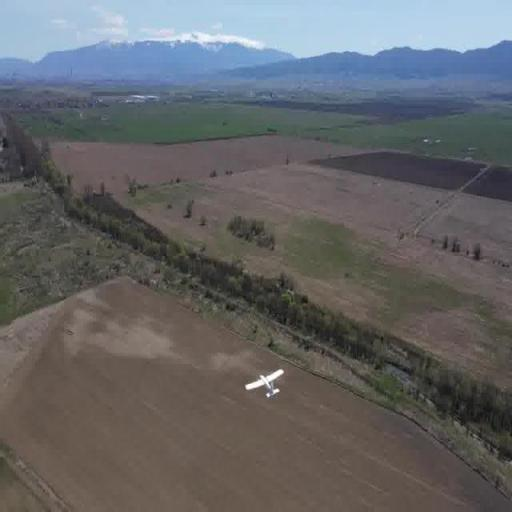uav: (244, 362, 284, 410)
